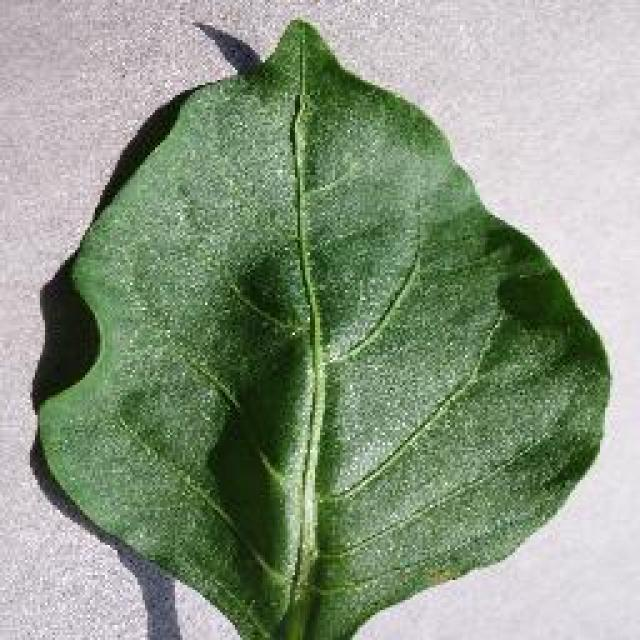Chilli_Healthy: (32, 15, 612, 637)
